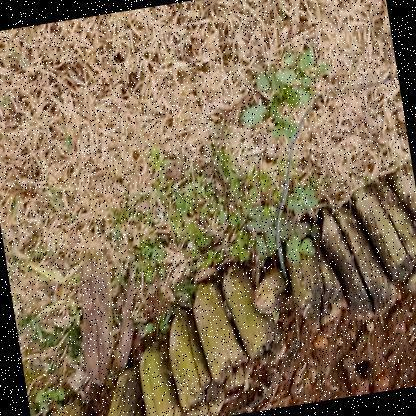Weeds: (234, 66, 315, 130), (275, 41, 337, 92), (276, 211, 313, 243), (284, 233, 317, 267), (243, 204, 275, 237), (287, 184, 320, 215), (269, 114, 301, 144), (254, 233, 279, 259)
